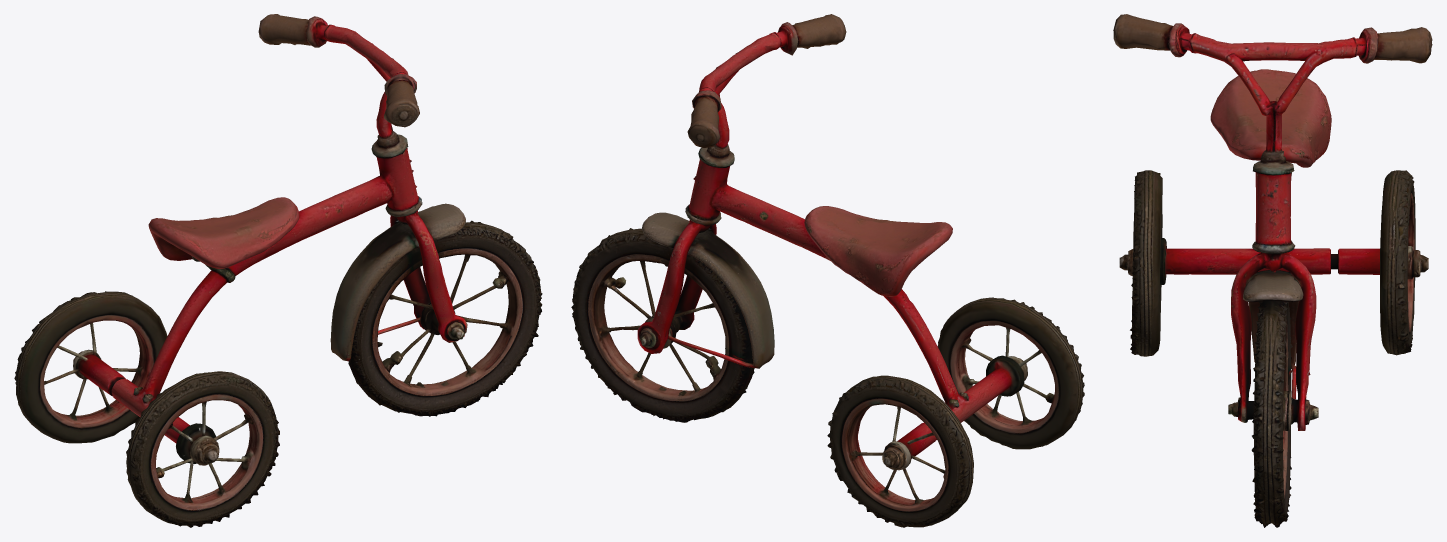
Rendered from scene-tricycle-v03.glb.
3 renders of one model, left to right at view 1: azimuth 30°, elevation 25°; view 2: azimuth 150°, elevation 25°; view 3: azimuth 270°, elevation 25°, orthographic. The views are drawn at different scales.
Visible parts, largest first — view 1: tripo_node_faf61e3c-99f9-4e43-9944-808208b5e176; view 2: tripo_node_faf61e3c-99f9-4e43-9944-808208b5e176; view 3: tripo_node_faf61e3c-99f9-4e43-9944-808208b5e176.
Boxes of the visible parts, <box> form: tripo_node_faf61e3c-99f9-4e43-9944-808208b5e176: <box>14,14,542,527</box>; tripo_node_faf61e3c-99f9-4e43-9944-808208b5e176: <box>571,14,1084,527</box>; tripo_node_faf61e3c-99f9-4e43-9944-808208b5e176: <box>1113,14,1432,527</box>.
Size of the model in its own units: 0.6843 by 0.55 by 0.3581.
1 material, 1 textured.
